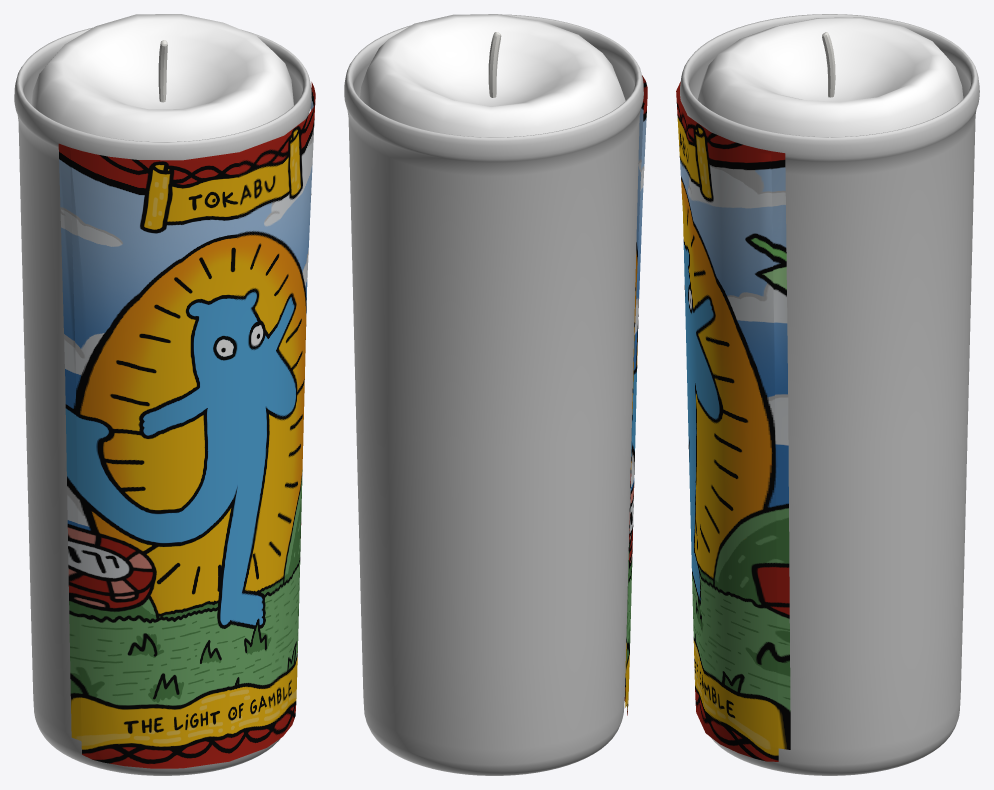
File: blue candle.glb
3 renders of one model, left to right at view 1: azimuth 30°, elevation 25°; view 2: azimuth 150°, elevation 25°; view 3: azimuth 270°, elevation 25°, orthographic.
Parts seen in each view (by area): view 1: Blue Candle; view 2: Blue Candle; view 3: Blue Candle.
Part boxes in pixels (x1,y1,x2,y2): Blue Candle: [14, 14, 315, 775]; Blue Candle: [344, 14, 647, 775]; Blue Candle: [676, 14, 979, 775].
Bounding box in the file's own units: 1.71 × 4.35 × 1.73.
Materials: 4 (1 with a texture image).
